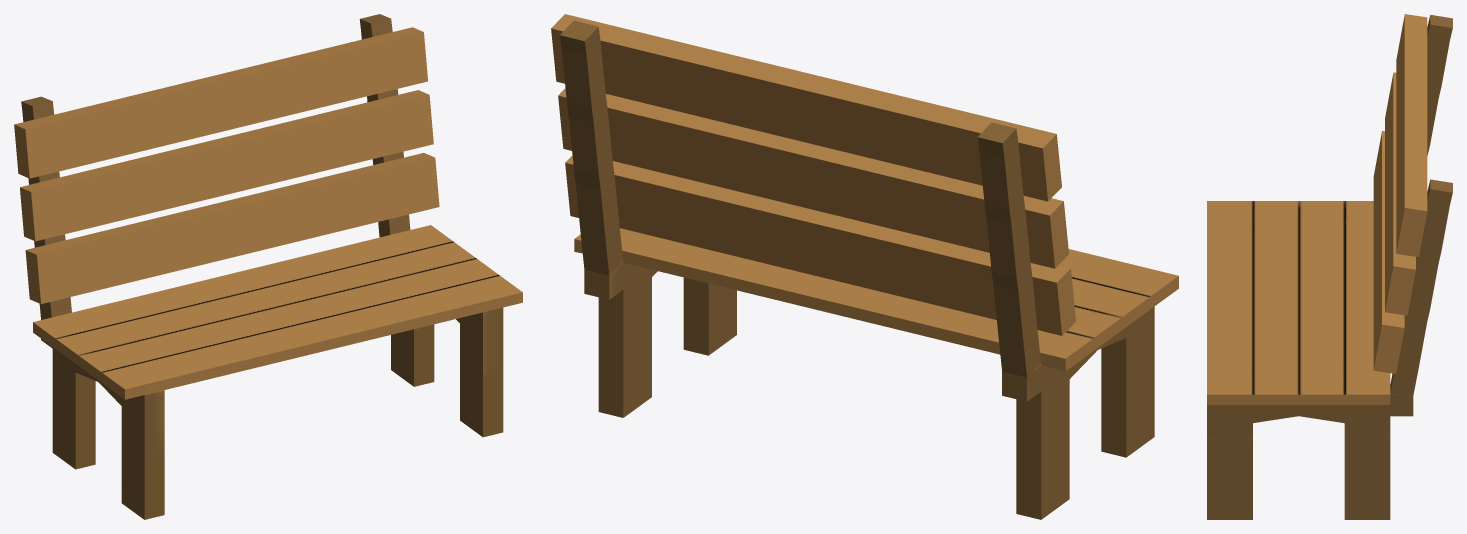
The model's file is bench.fbx.
3 views of the same model, side by side, from view 1: azimuth 30°, elevation 25°; view 2: azimuth 150°, elevation 25°; view 3: azimuth 270°, elevation 25° (orthographic). The views are drawn at different scales.
Visible parts, largest first — view 1: Bench; view 2: Bench; view 3: Bench.
Part boxes in pixels (left/top/right/bottom): Bench: left=14, top=14, right=522, bottom=519; Bench: left=551, top=14, right=1178, bottom=519; Bench: left=1207, top=14, right=1452, bottom=519.
Bounding box in the file's own units: 2002 × 1593 × 1073.
